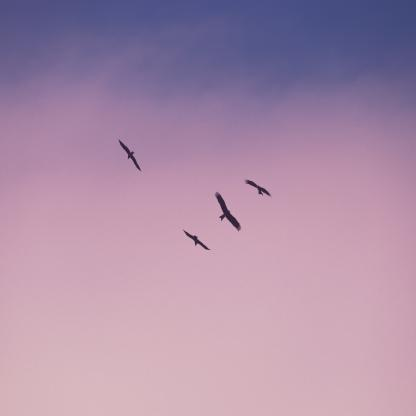bird: (214, 191, 242, 232), (118, 139, 142, 171), (183, 228, 211, 250), (244, 178, 273, 198)
